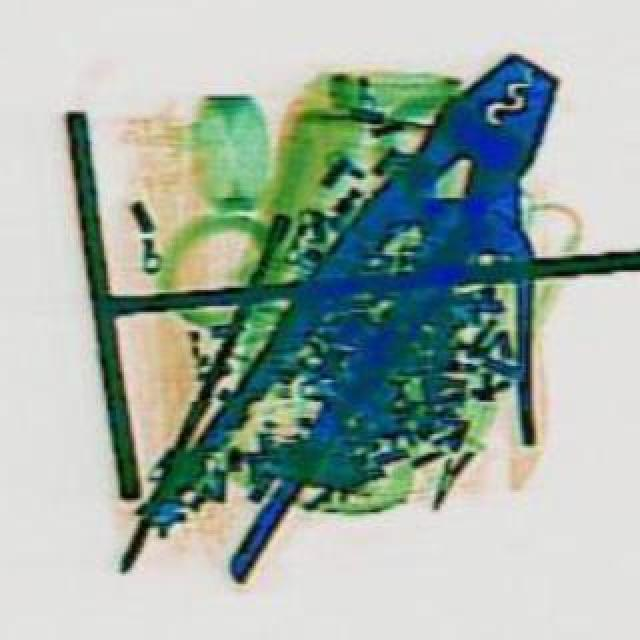wrench: (134, 38, 602, 590)
